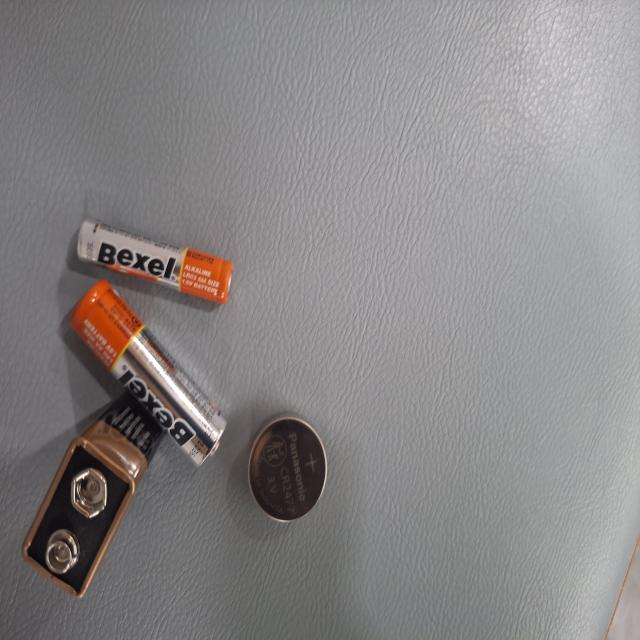AA: (212, 552, 347, 640)
AAA: (164, 543, 229, 640)
COIN: (313, 418, 392, 522)
